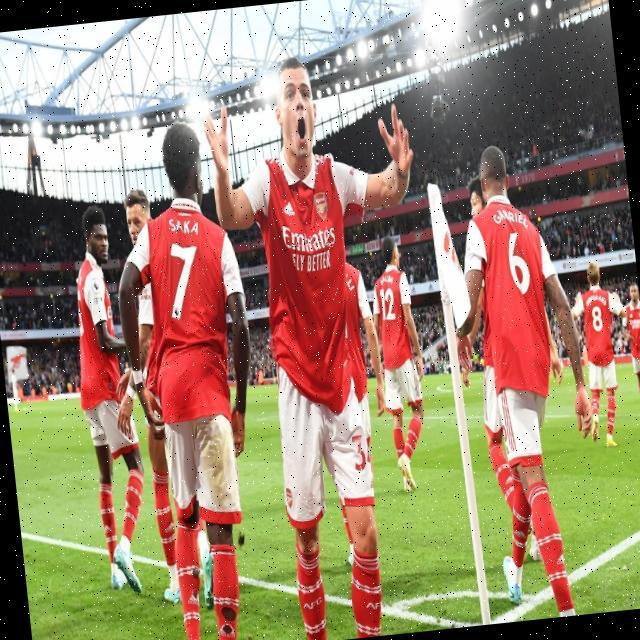Adidas: (282, 199, 296, 217)
Emirates: (281, 218, 337, 253)
